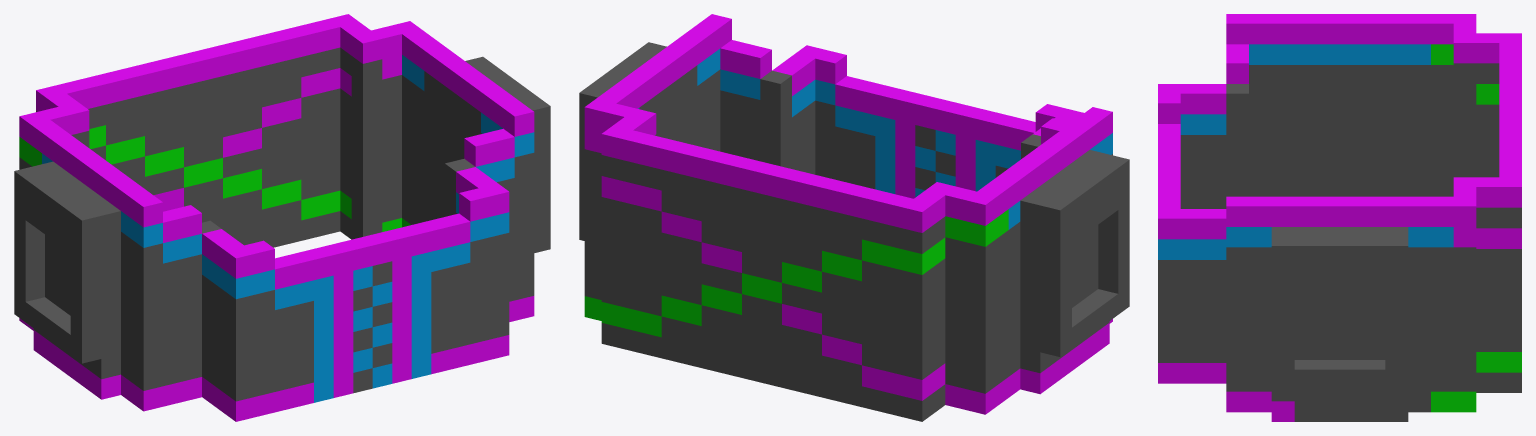
3 renders of one model, left to right at view 1: azimuth 30°, elevation 25°; view 2: azimuth 150°, elevation 25°; view 3: azimuth 270°, elevation 25°, orthographic. The views are drawn at different scales.
Visible parts, largest first — view 1: 50; view 2: 50; view 3: 50.
Boxes of the visible parts, bbox=[...] form: 50: bbox=[14, 14, 550, 421]; 50: bbox=[579, 14, 1129, 421]; 50: bbox=[1158, 14, 1521, 421].
Bounding box in the file's own units: 0.9449 × 0.3937 × 0.6299.
Materials: 1 (1 with a texture image).
